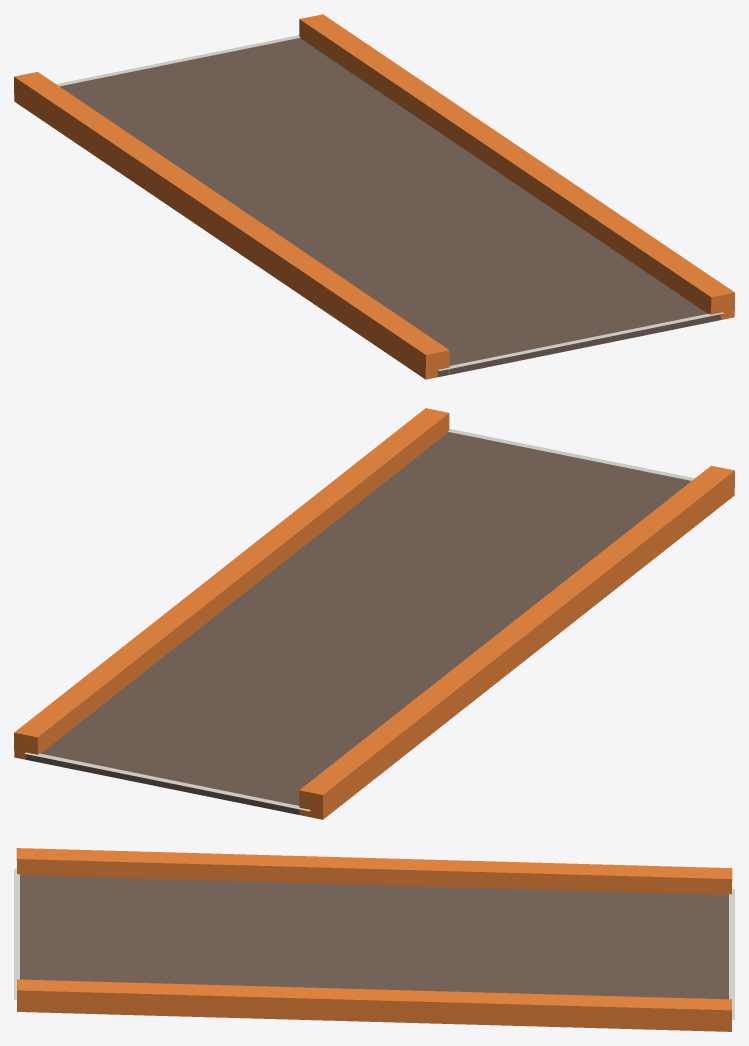
Rendered from SM_MP_Film_A_3_2.fbx.
3 views of the same model, one above another, from view 1: azimuth 30°, elevation 25°; view 2: azimuth 150°, elevation 25°; view 3: azimuth 270°, elevation 25° (orthographic). The views are drawn at different scales.
Parts seen in each view (by area): view 1: SM_MP_Film_A_3_2; view 2: SM_MP_Film_A_3_2; view 3: SM_MP_Film_A_3_2.
Part boxes in pixels (x1=…): SM_MP_Film_A_3_2: x1=14, y1=14, x2=734, y2=379; SM_MP_Film_A_3_2: x1=14, y1=408, x2=734, y2=819; SM_MP_Film_A_3_2: x1=14, y1=848, x2=734, y2=1031.
Size of what is drawn, in the model's own units: 260 by 605 by 49.06.
